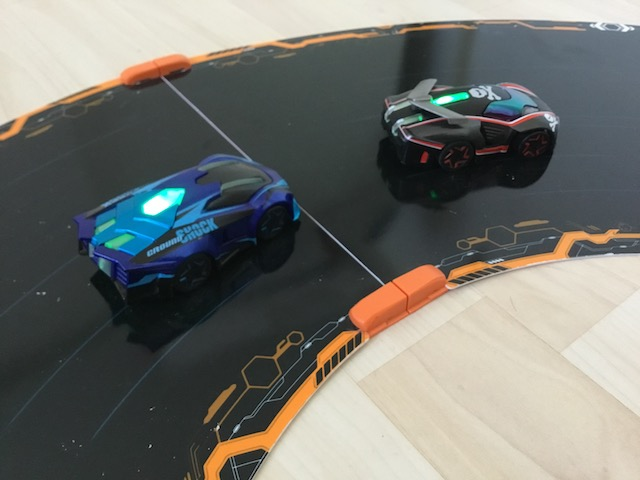car-blue: (71, 149, 303, 308)
car-red: (377, 74, 561, 178)
